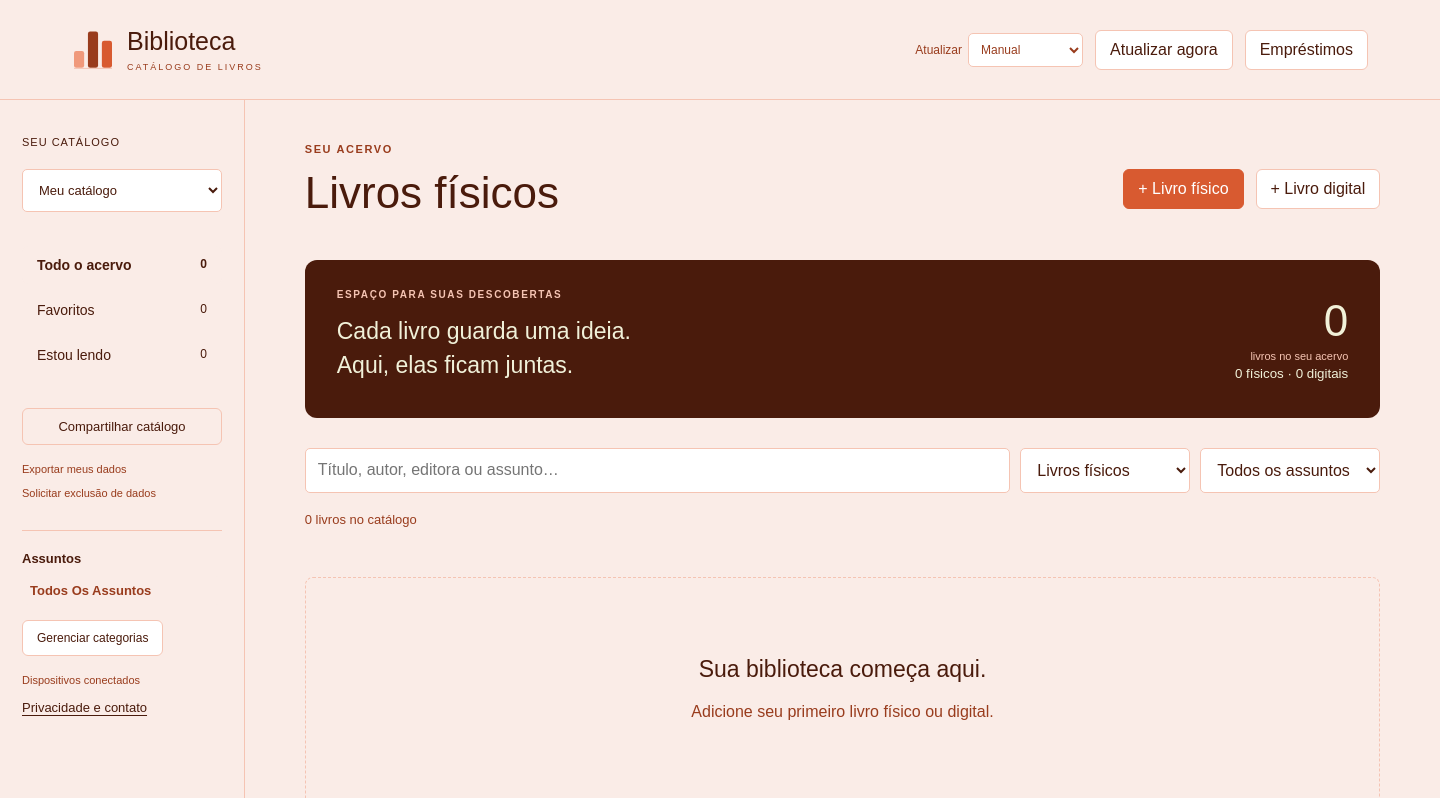
it: catálogo web › remove favorito do filtro assim que a alteração é salva
This screenshot has width=1440, height=798.
Check: the button "+ Livro digital" is shown, box 1256,169 -> 1380,209
Select "Livros digitais" in the dropdown named "Tipo de livro" at (1105, 470), box 1020,448 -> 1190,493
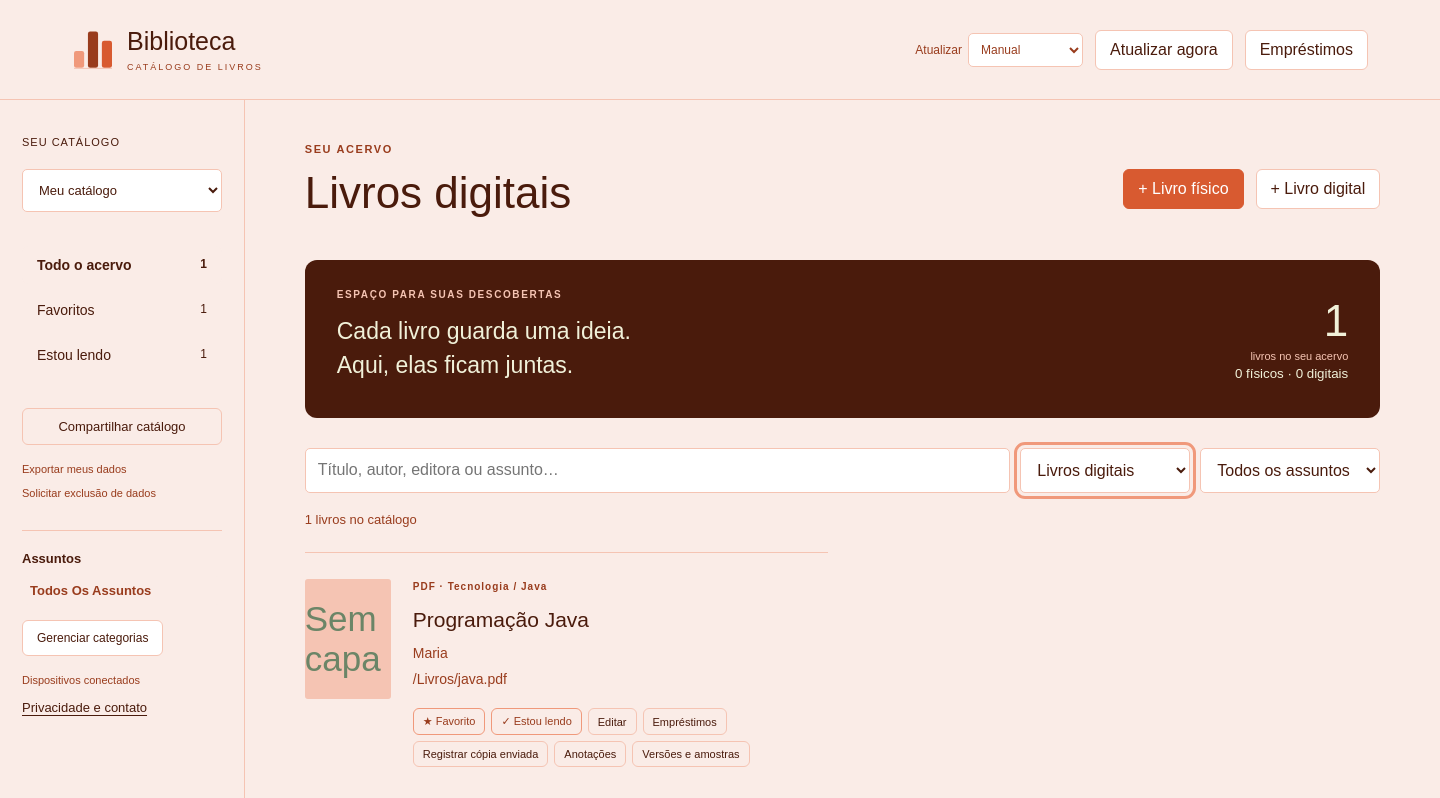
Check: the heading "Programação Java" is shown, box 413,608 -> 589,631
Click the button "Favoritos 1" at (122, 310), box 22,291 -> 222,329
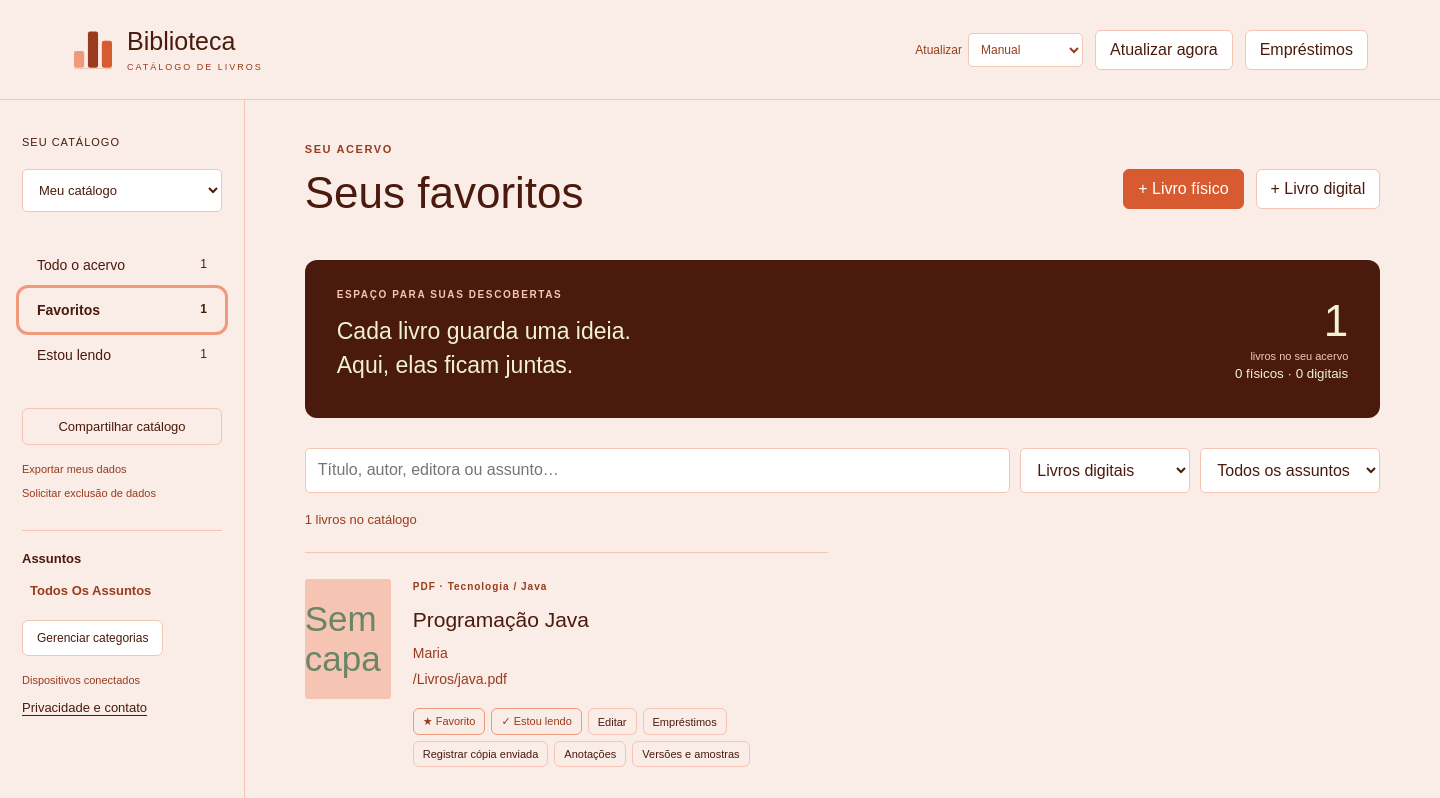
Click the button "★ Favorito" at (449, 722), box 413,708 -> 486,735
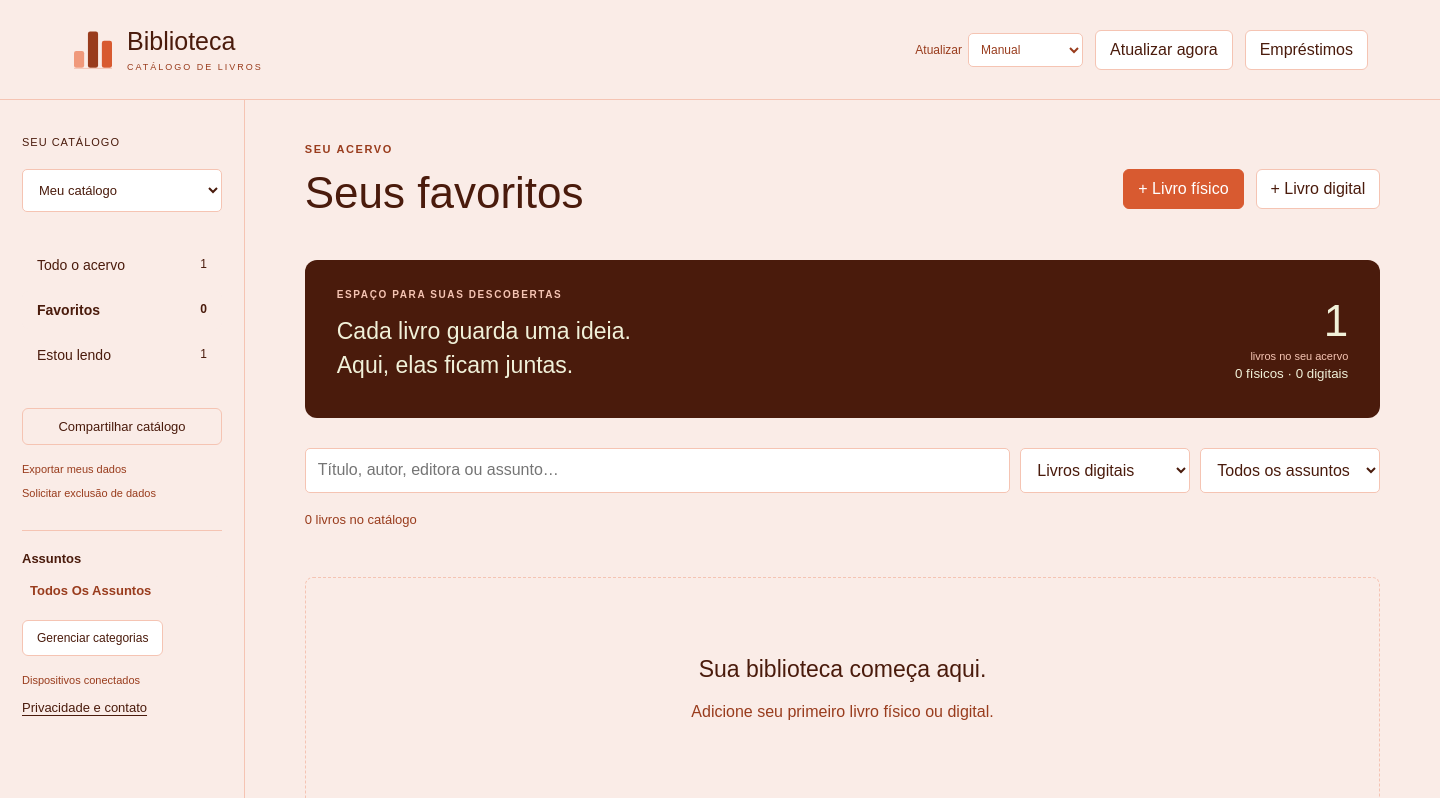
Check: the heading "Programação Java" is gone
